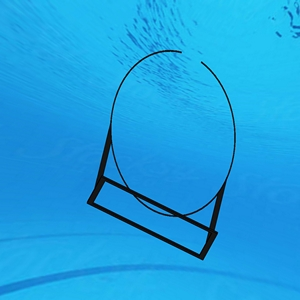circle: (86, 48, 238, 262)
